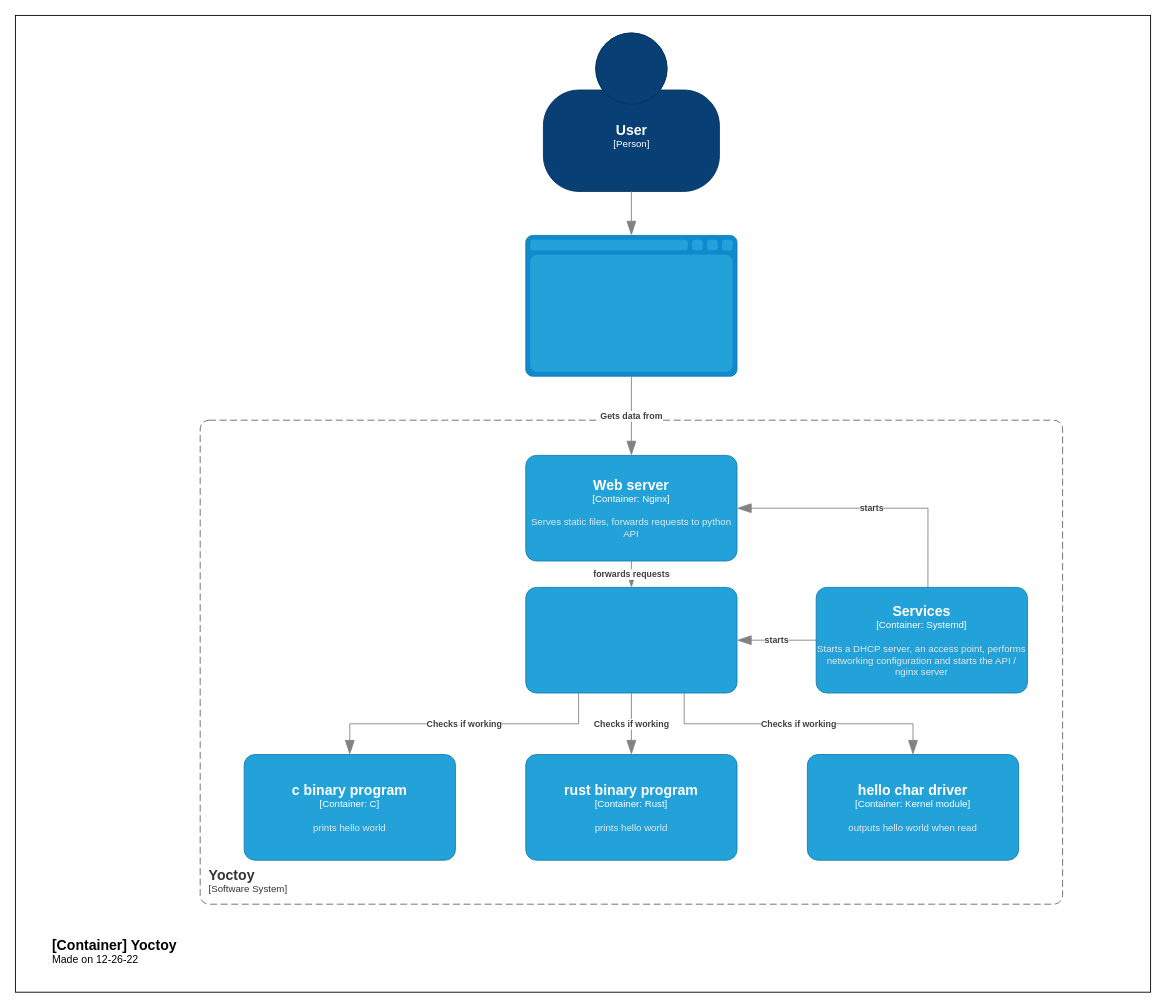
Some shapes in this 1166 by 1008 pixel diagram are drawn without their labels. Each missing label, with the centre of its shape:
API [Container: Python / Flask] Checks if the apps are running: the point at 631,640
WebBrowser [Container: JavaScript] Displays if apps are working: the point at 631,305
